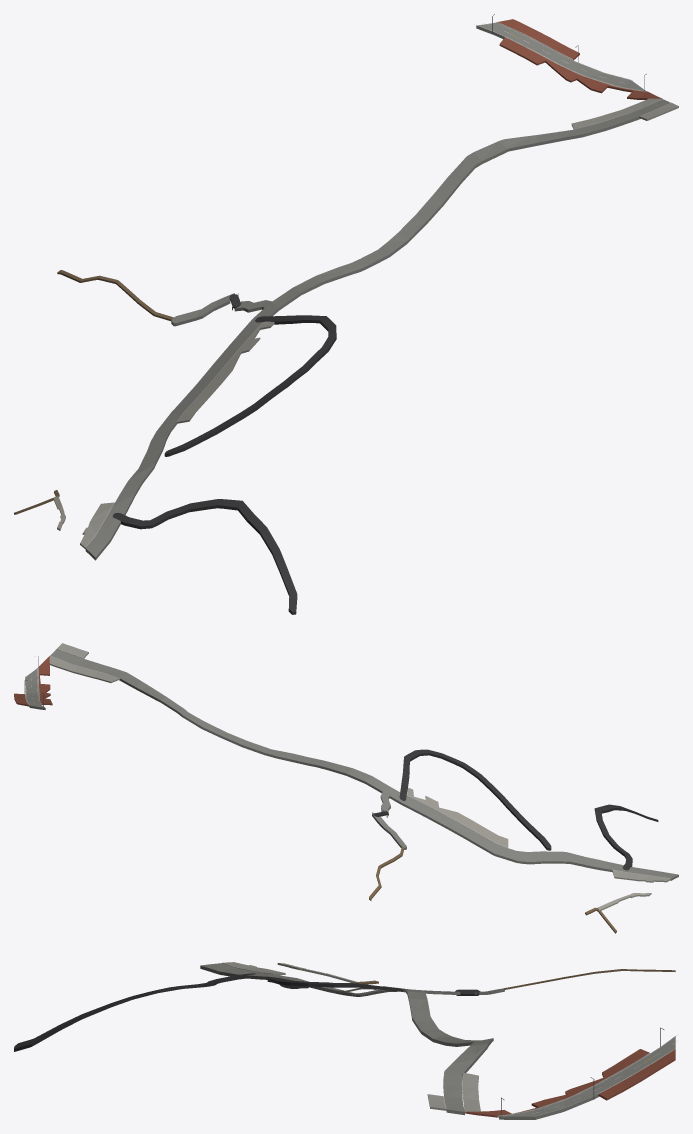
The picture shows the model from 3 angles, top to bottom: view 1: azimuth 30°, elevation 25°; view 2: azimuth 150°, elevation 25°; view 3: azimuth 270°, elevation 25°; orthographic projection. The views are drawn at different scales.
Size of the model in its own units: 294 by 107 by 224.
